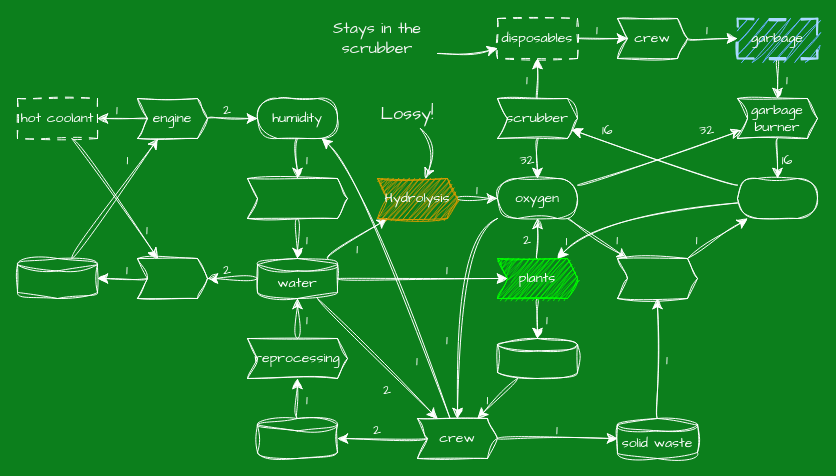
This 836x476 diagram has some shape labels left out. Here are the shapes that lost their labels. From the top down, the box of each, then its label:
(246, 178, 348, 218): condensator
(736, 178, 818, 218): CO2
(16, 258, 98, 298): cold coolant
(136, 258, 208, 298): cooler
(616, 258, 698, 298): waste burner
(496, 338, 578, 378): food
(256, 418, 338, 458): fluid waste
